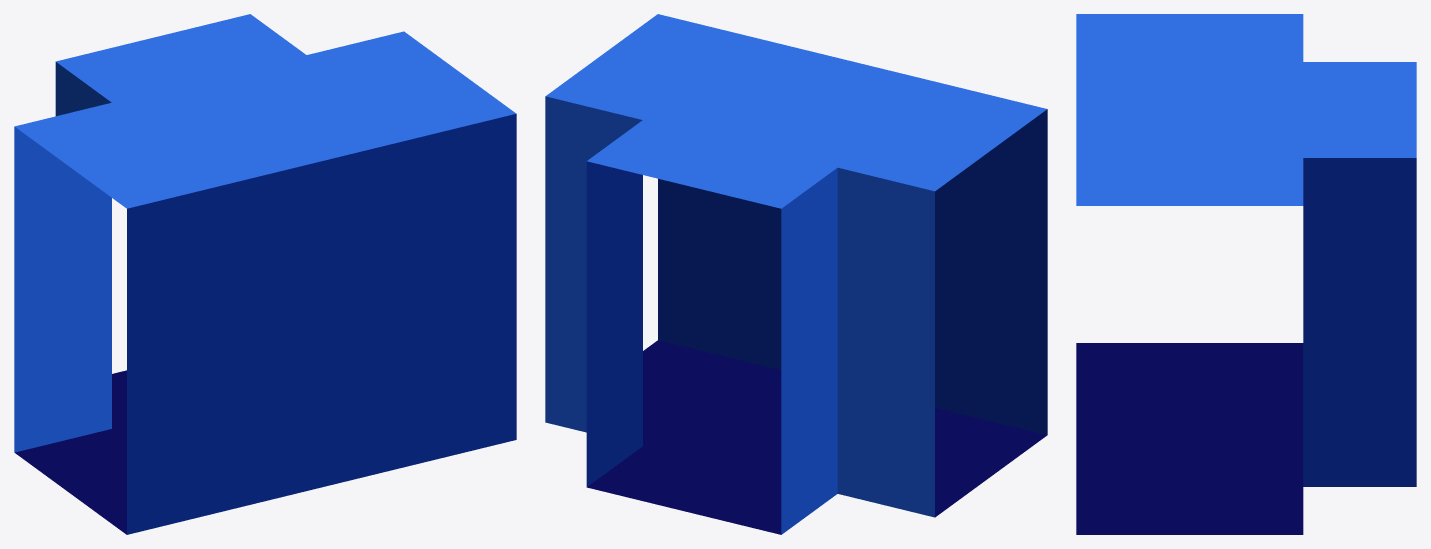
The model's file is wall_t_left_up_right.glb.
The picture shows the model from 3 angles, left to right: view 1: azimuth 30°, elevation 25°; view 2: azimuth 150°, elevation 25°; view 3: azimuth 270°, elevation 25°; orthographic projection.
Visible parts, largest first — view 1: wall_t_left_up_right; view 2: wall_t_left_up_right; view 3: wall_t_left_up_right.
Part boxes in pixels (x1=…): wall_t_left_up_right: x1=14, y1=14, x2=516, y2=534; wall_t_left_up_right: x1=545, y1=14, x2=1047, y2=534; wall_t_left_up_right: x1=1076, y1=14, x2=1416, y2=534.
Size of the model in its own units: 1 by 0.8 by 0.75.
